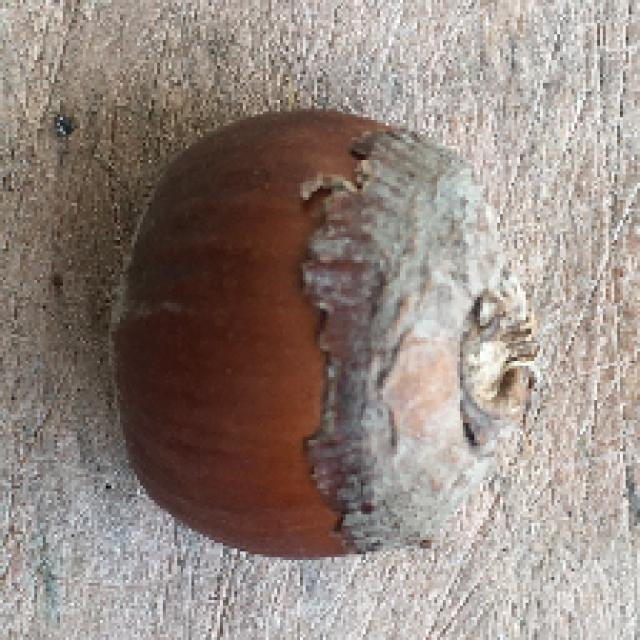damagedHazelnut: (109, 96, 533, 569)
